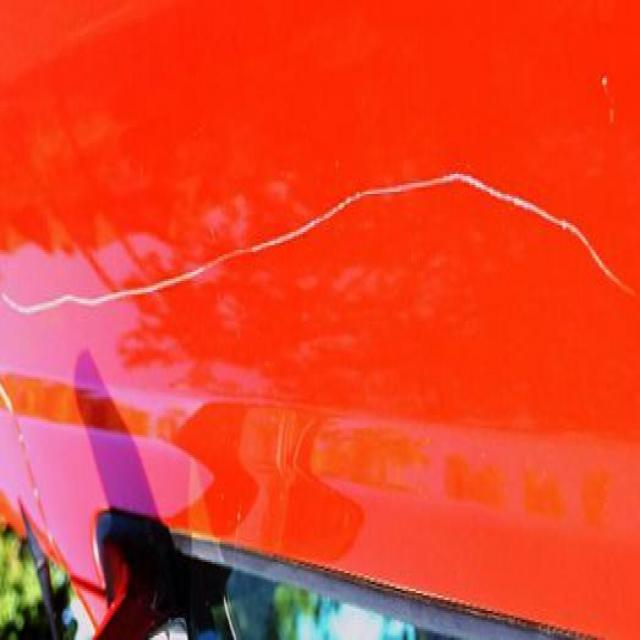scratch: (4, 174, 638, 328)
